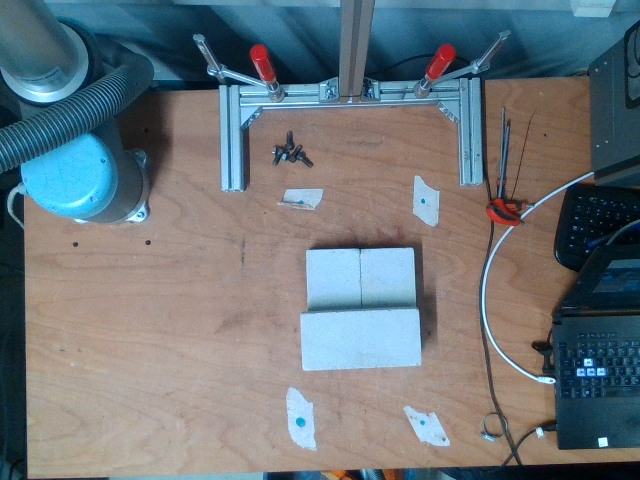brick: (301, 309, 422, 370)
